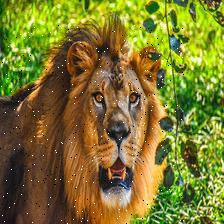Lion: (0, 25, 184, 224)
